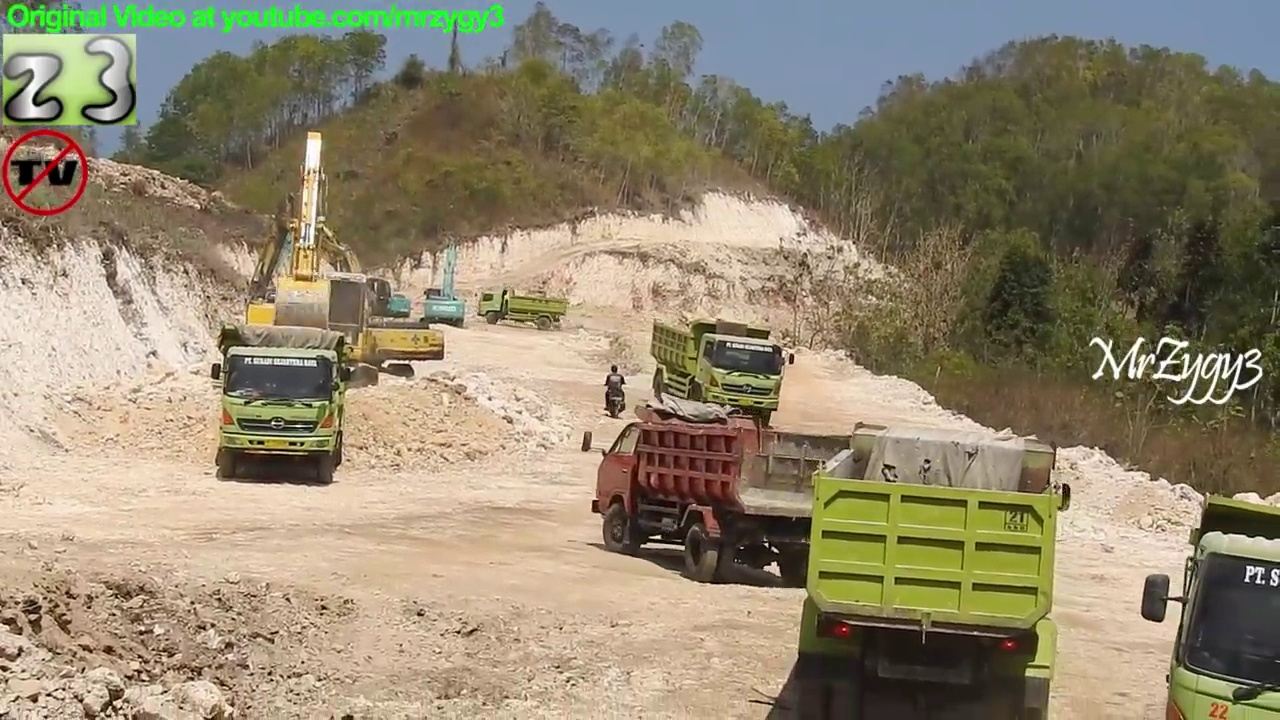excavator: (210, 127, 381, 398), (240, 189, 448, 388), (260, 213, 430, 355), (413, 231, 469, 334)
truck: (793, 421, 1073, 720), (581, 405, 888, 595), (1137, 492, 1277, 720), (209, 323, 353, 489), (648, 314, 799, 434), (474, 285, 571, 334)
